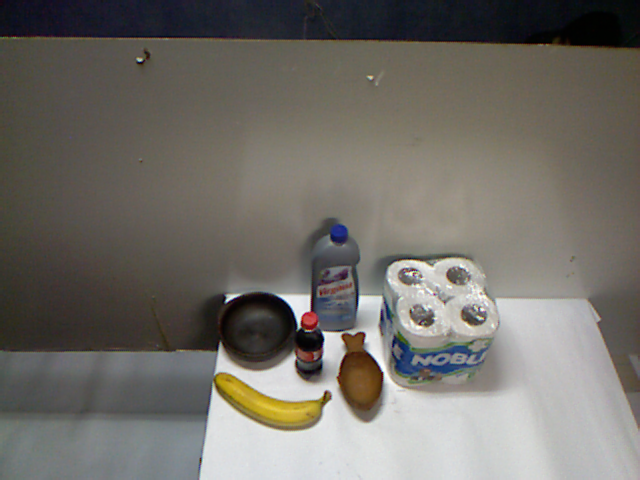estuche: (225, 333, 316, 389)
harina: (384, 274, 459, 360)
mantequilla: (333, 371, 393, 416)
pelota: (291, 360, 335, 408)
uslero: (285, 296, 460, 408)
yogurt: (235, 236, 292, 341)
